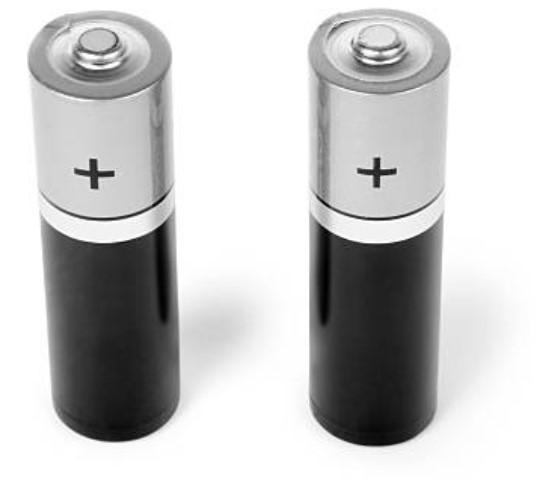Battery: (28, 11, 179, 442), (310, 9, 451, 446)
